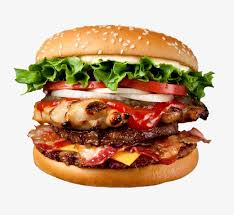hamburger: (24, 25, 211, 186)
